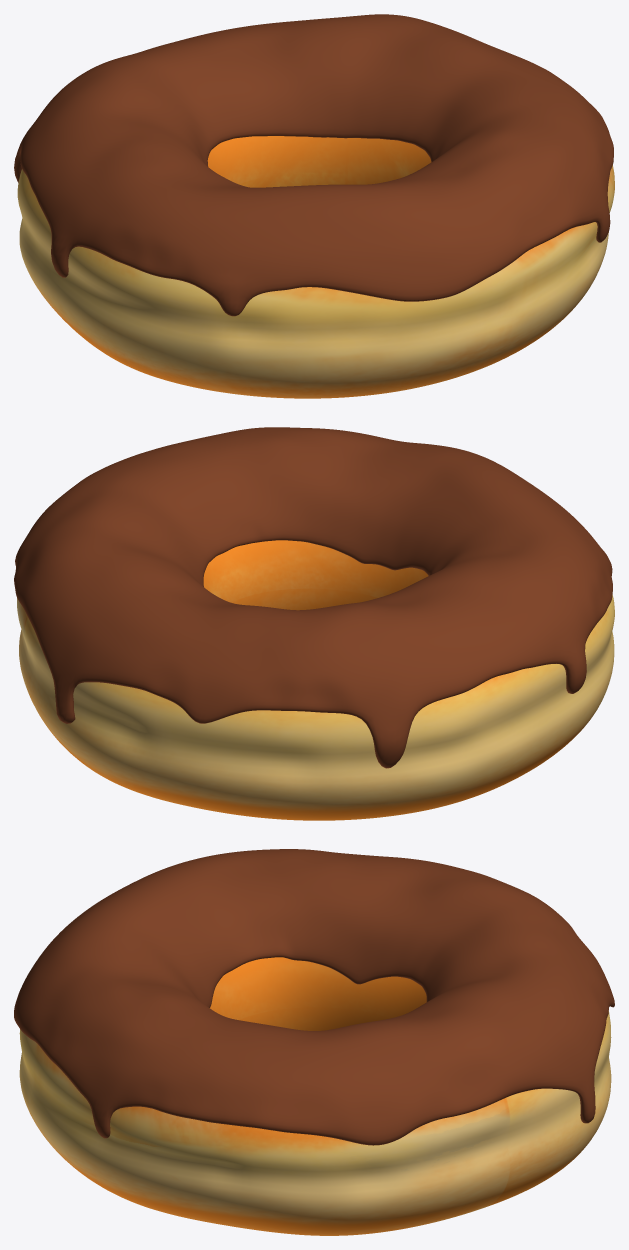
The model's file is Donut.glb.
3 views of the same model, one above another, from view 1: azimuth 30°, elevation 25°; view 2: azimuth 150°, elevation 25°; view 3: azimuth 270°, elevation 25° (orthographic).
Visible parts, largest first — view 1: Es, Donat; view 2: Es, Donat; view 3: Es, Donat.
Part boxes in pixels (x1,y1,x2,y2): Es: [14, 14, 613, 316]; Donat: [17, 136, 614, 398]; Es: [14, 427, 612, 768]; Donat: [17, 540, 614, 820]; Es: [14, 849, 614, 1145]; Donat: [19, 957, 611, 1235].
Size of what is drawn, in the model's own units: 0.1496 by 0.0549 by 0.1458.
2 materials, 1 textured.
